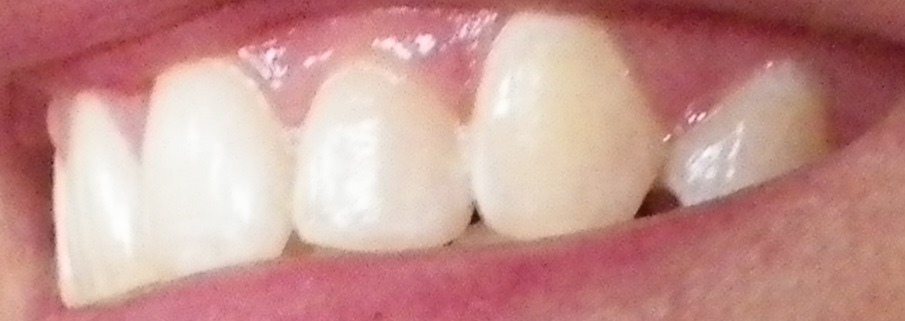boca: (56, 12, 827, 302)
